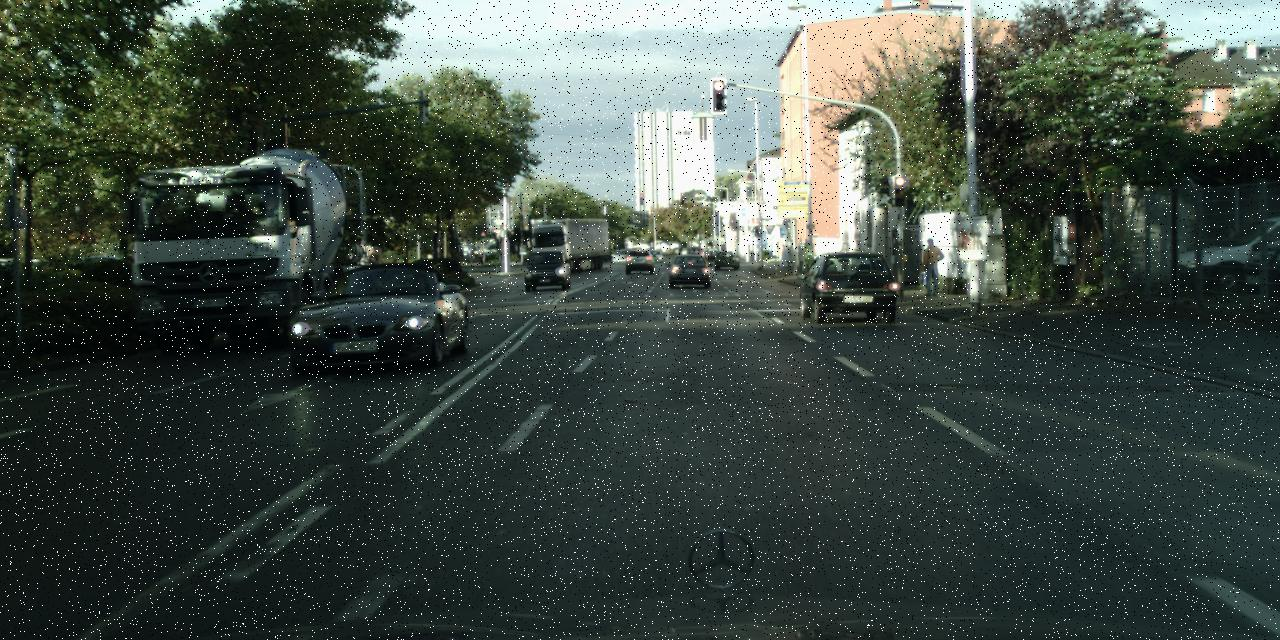ped: (919, 237, 942, 294), (468, 247, 474, 262), (478, 247, 483, 264)
